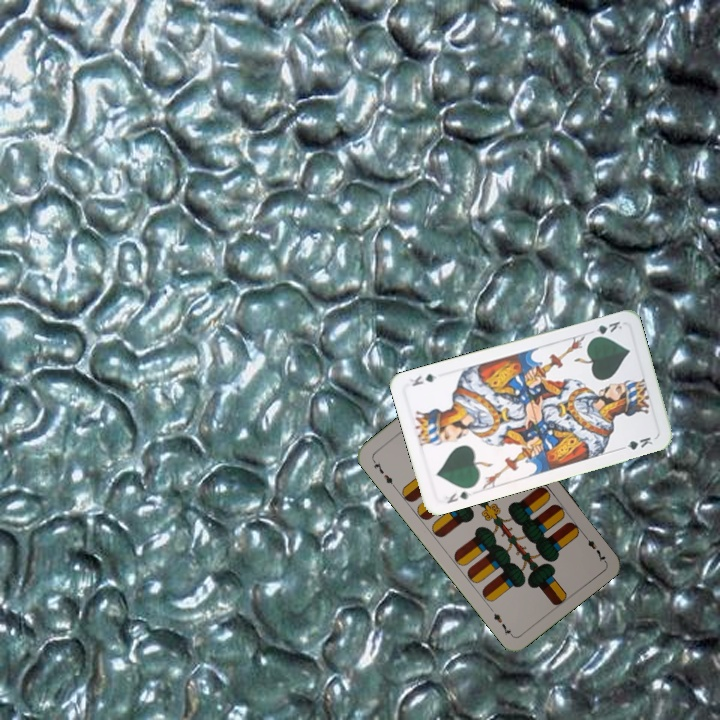E7: (368, 455, 398, 490), (579, 529, 608, 564)
GK: (587, 317, 625, 341), (443, 487, 474, 506)
